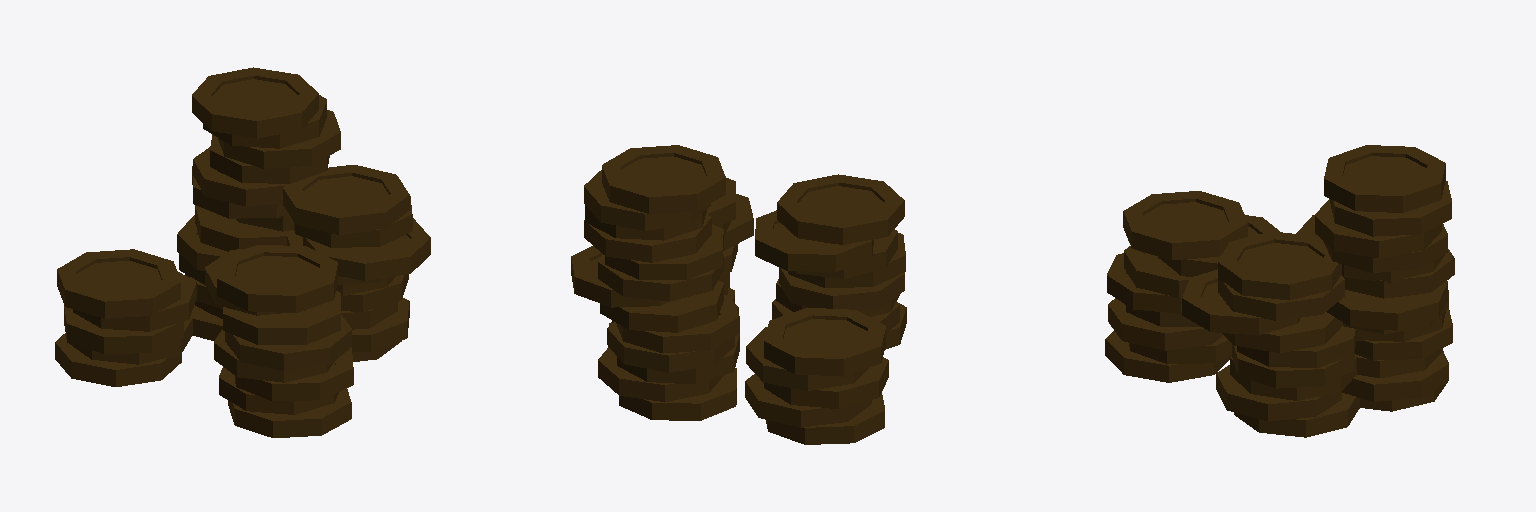
Rendered from Coin_Pile.obj.
The picture shows the model from 3 angles: view 1: azimuth 30°, elevation 25°; view 2: azimuth 150°, elevation 25°; view 3: azimuth 270°, elevation 25°; orthographic projection.
Parts seen in each view (by area): view 1: Coin_Pile.001; view 2: Coin_Pile.001; view 3: Coin_Pile.001.
Part boxes in pixels (left/top/right/bottom): Coin_Pile.001: left=55, top=67, right=430, bottom=437; Coin_Pile.001: left=571, top=145, right=906, bottom=444; Coin_Pile.001: left=1105, top=145, right=1454, bottom=437.
Size of the model in its own units: 0.1364 by 0.0946 by 0.1354.